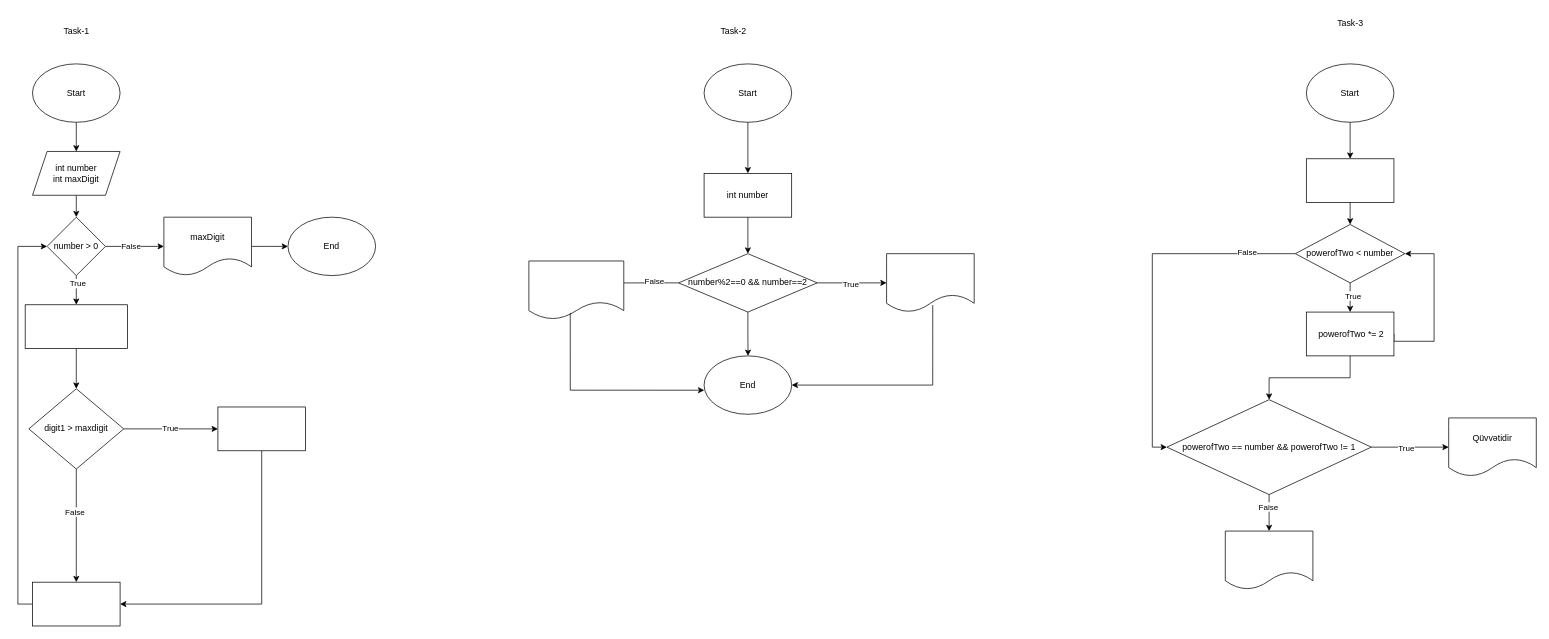
Some shapes in this 1549 by 639 pixel diagram are drawn without their labels. The centre of each missing label's shape, as x and y in pixels:
int digit1 = number % 10: point 75,326
int number int powerofTwo: point 1350,180
maxDigit = digit1: point 261,428
number/=10: point 76,603
Qüvvəti deyil: point 1269,559
Ədəd mürəkkəbdir: point 576,289
Ədəd sadədir: point 930,282
